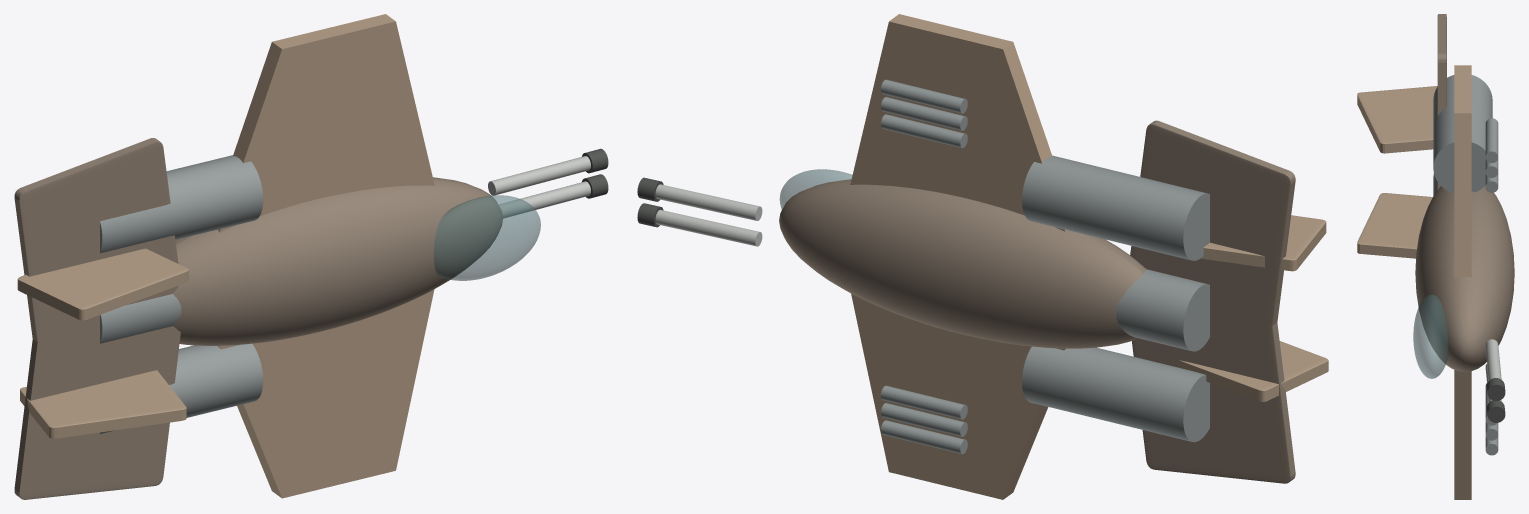
File: d-u24-dominion-light-gunship-lod1.glb
3 renders of one model, left to right at view 1: azimuth 30°, elevation 25°; view 2: azimuth 150°, elevation 25°; view 3: azimuth 270°, elevation 25°, orthographic. The views are drawn at different scales.
Visible parts, largest first — view 1: combat_main_wing, combat_fuselage, combat_tailplane_-1, combat_tailplane_1, combat_engine_2, combat_canopy, combat_fin_1, combat_fin_-1, combat_engine_0, combat_engine_1, combat_gun_barrel_1, combat_gun_barrel_0; view 2: combat_main_wing, combat_fuselage, combat_tailplane_1, combat_tailplane_-1, combat_engine_2, combat_engine_0, combat_engine_1, combat_fin_-1, combat_fin_1, combat_gun_barrel_0, combat_gun_barrel_1, combat_-1_tube_1 (+6 smaller); view 3: combat_fuselage, combat_main_wing, combat_fin_1, combat_engine_2, combat_fin_-1, combat_canopy, combat_tailplane_1, combat_1_tube_3, combat_gun_barrel_1, combat_gun_muzzle_1, combat_gun_muzzle_0, combat_-1_tube_1 (+3 smaller).
Part boxes in pixels (bbox=[...]): combat_main_wing: bbox=[218, 14, 434, 498]; combat_fuselage: bbox=[173, 177, 502, 345]; combat_tailplane_-1: bbox=[14, 326, 180, 499]; combat_tailplane_1: bbox=[14, 138, 178, 346]; combat_engine_2: bbox=[100, 155, 263, 253]; combat_canopy: bbox=[434, 195, 540, 280]; combat_fin_1: bbox=[17, 248, 188, 320]; combat_fin_-1: bbox=[20, 370, 186, 438]; combat_engine_0: bbox=[100, 343, 263, 433]; combat_engine_1: bbox=[100, 294, 181, 343]; combat_gun_barrel_1: bbox=[488, 156, 590, 195]; combat_gun_barrel_0: bbox=[499, 181, 590, 218]; combat_main_wing: bbox=[850, 14, 1066, 499]; combat_fuselage: bbox=[779, 179, 1146, 348]; combat_tailplane_1: bbox=[1130, 120, 1295, 328]; combat_tailplane_-1: bbox=[1132, 311, 1295, 483]; combat_engine_2: bbox=[1022, 155, 1209, 260]; combat_engine_0: bbox=[1022, 346, 1209, 442]; combat_engine_1: bbox=[1116, 269, 1209, 351]; combat_fin_-1: bbox=[1179, 341, 1328, 401]; combat_fin_1: bbox=[1201, 215, 1326, 271]; combat_gun_barrel_0: bbox=[655, 209, 762, 246]; combat_gun_barrel_1: bbox=[655, 184, 762, 220]; combat_-1_tube_1: bbox=[881, 420, 967, 454]; combat_fuselage: bbox=[1415, 185, 1514, 372]; combat_main_wing: bbox=[1454, 65, 1471, 499]; combat_fin_1: bbox=[1357, 86, 1437, 153]; combat_engine_2: bbox=[1433, 75, 1492, 192]; combat_fin_-1: bbox=[1357, 193, 1432, 258]; combat_canopy: bbox=[1413, 294, 1448, 378]; combat_tailplane_1: bbox=[1437, 14, 1446, 189]; combat_1_tube_3: bbox=[1485, 118, 1498, 162]; combat_gun_barrel_1: bbox=[1485, 339, 1501, 380]; combat_gun_muzzle_1: bbox=[1487, 378, 1505, 400]; combat_gun_muzzle_0: bbox=[1487, 400, 1505, 422]; combat_-1_tube_1: bbox=[1485, 436, 1498, 455].
Size of what is drawn, in the model's own units: 13 by 9.02 by 3.33.
